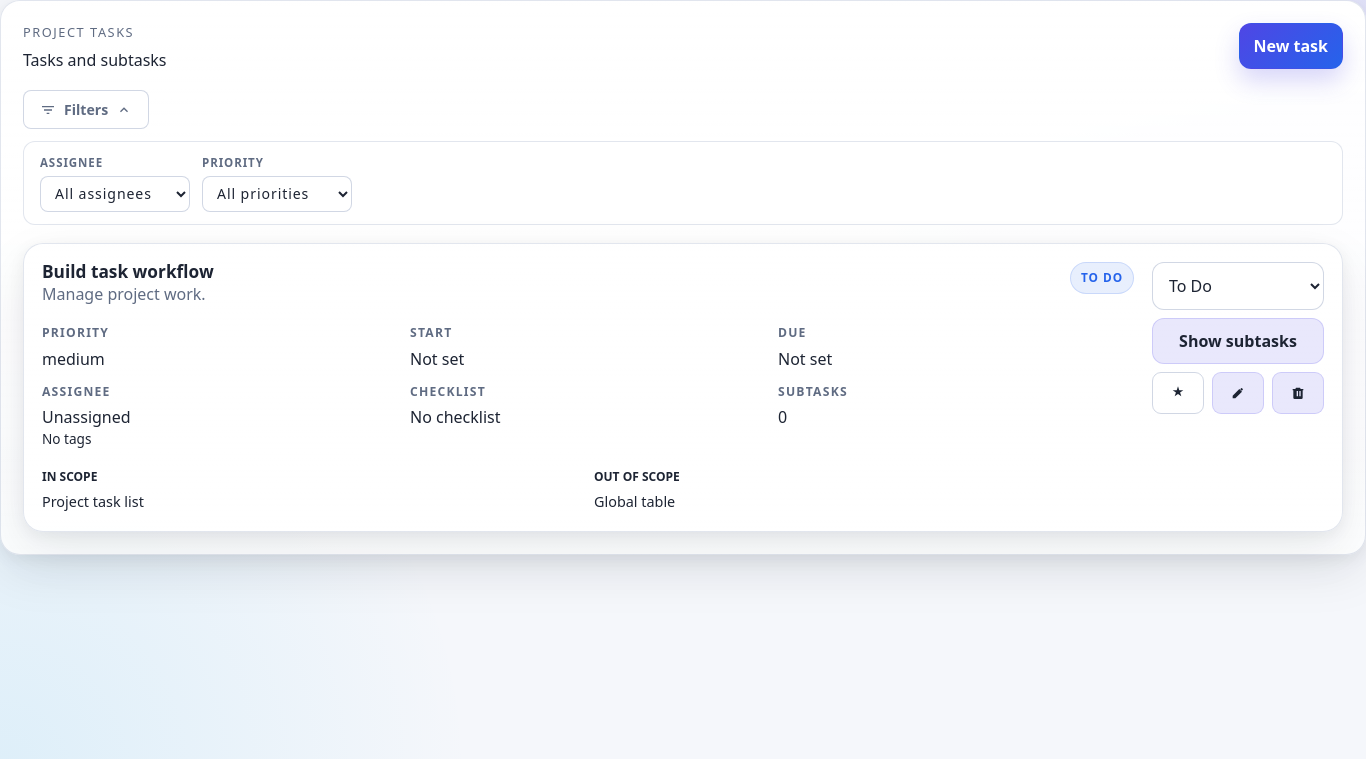
Test case: ProjectTasksPanel subtask layout › keeps subtask delete confirmation behavior inside the parent task workflow
This screenshot has width=1366, height=759.
What coordinates should you click on to do the following:
click the button "Show subtasks"
I would click on:
 (1238, 341)
Its box is [1152,318,1324,364].
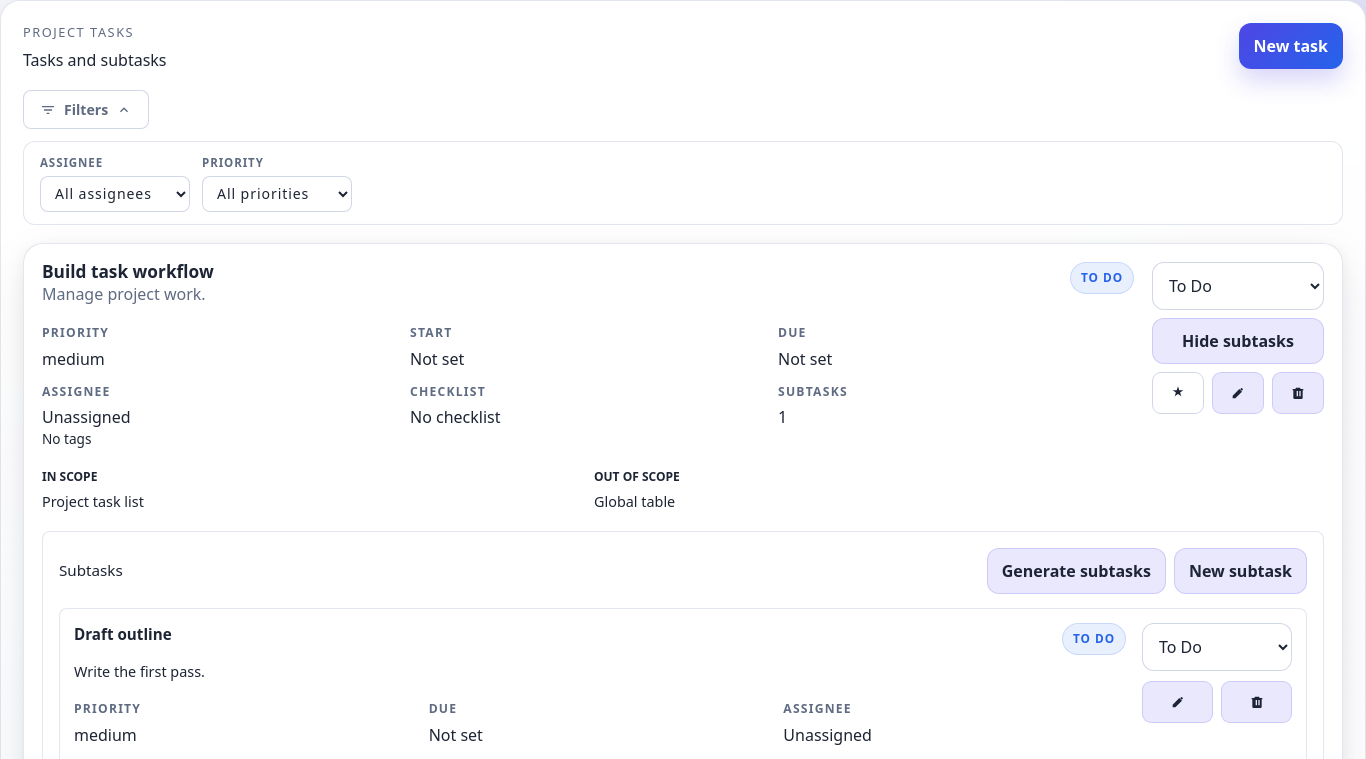
What coordinates should you click on to do the following:
click the 2nd button named "Delete"
I would click on:
 (1256, 702)
Its box is [1221,681,1292,723].
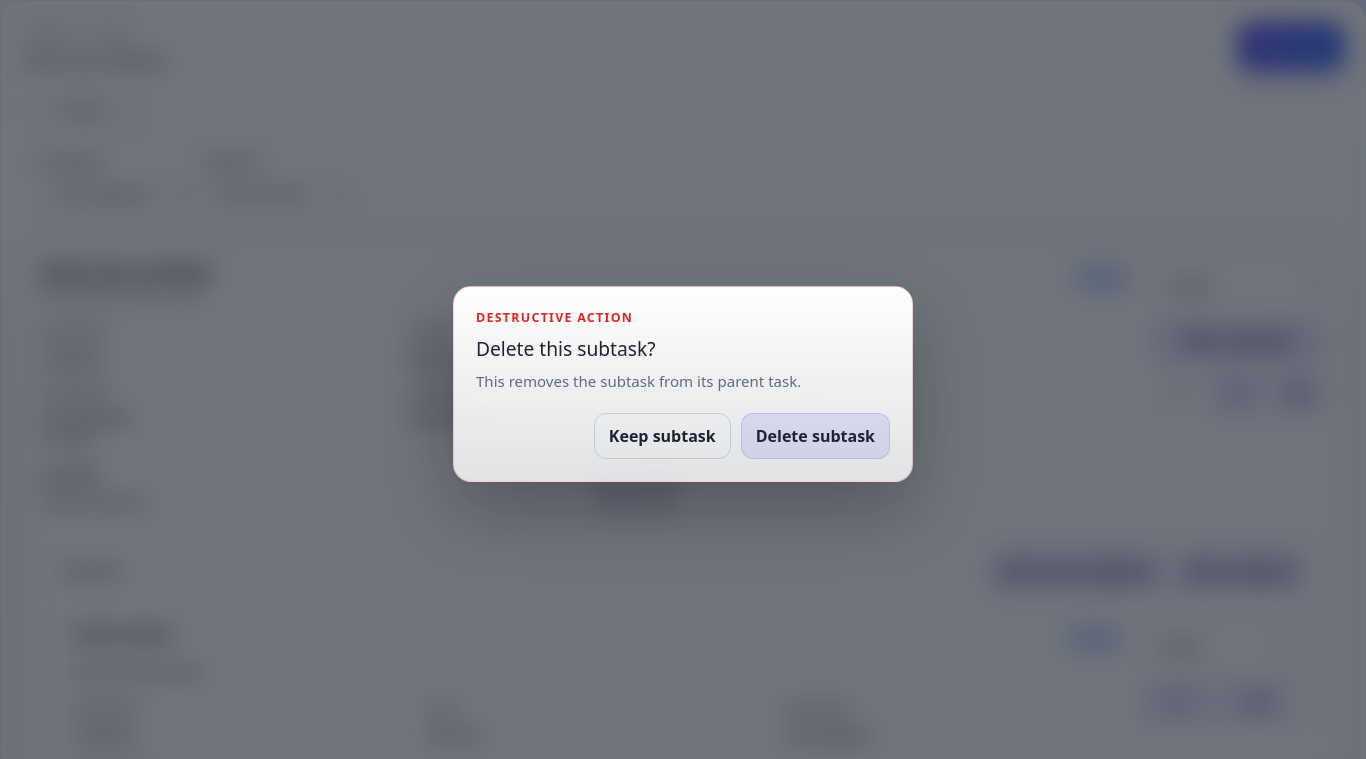
Now the dialog "Delete this subtask?" is shown, box [453,286,913,482]
What coordinates should you click on to do the following:
click the button "Keep subtask"
I would click on:
 (662, 436)
Its box is [594,413,731,459].
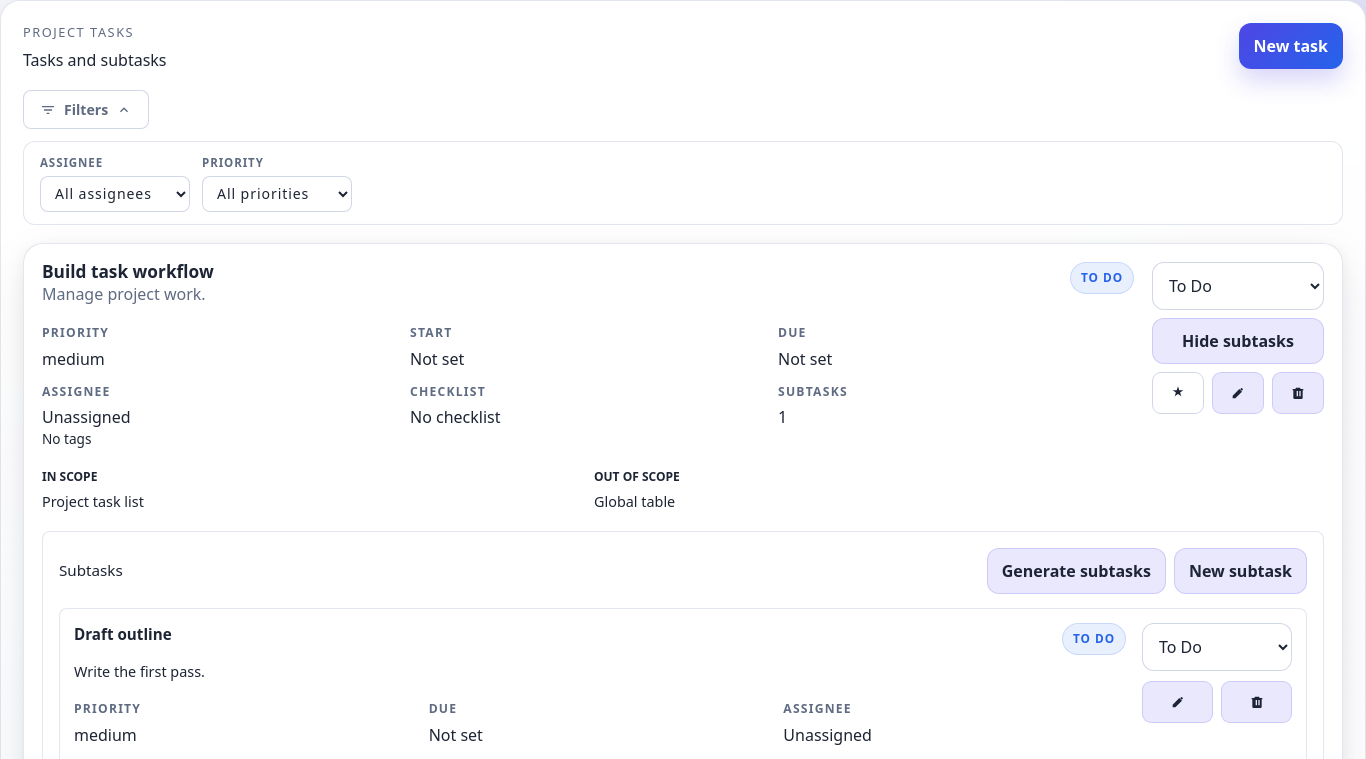
Now the heading "Draft outline" is shown, box [74,623,172,646]
Now the heading "Delete this subtask?" is gone
What coordinates should you click on to do the following:
click the 2nd button named "Delete"
I would click on:
 (1256, 702)
Its box is [1221,681,1292,723].
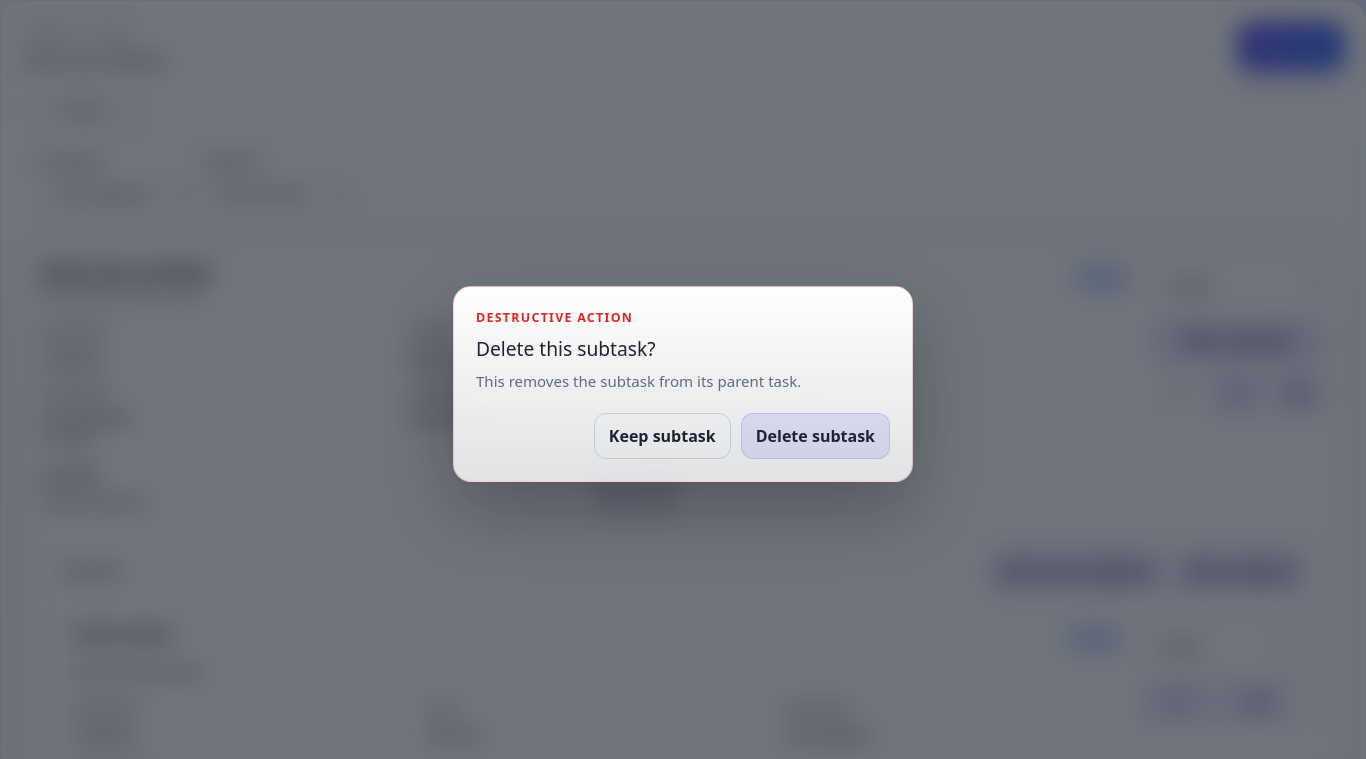
What coordinates should you click on to do the following:
click the button "Delete subtask"
I would click on:
 (815, 436)
Its box is [741,413,890,459].
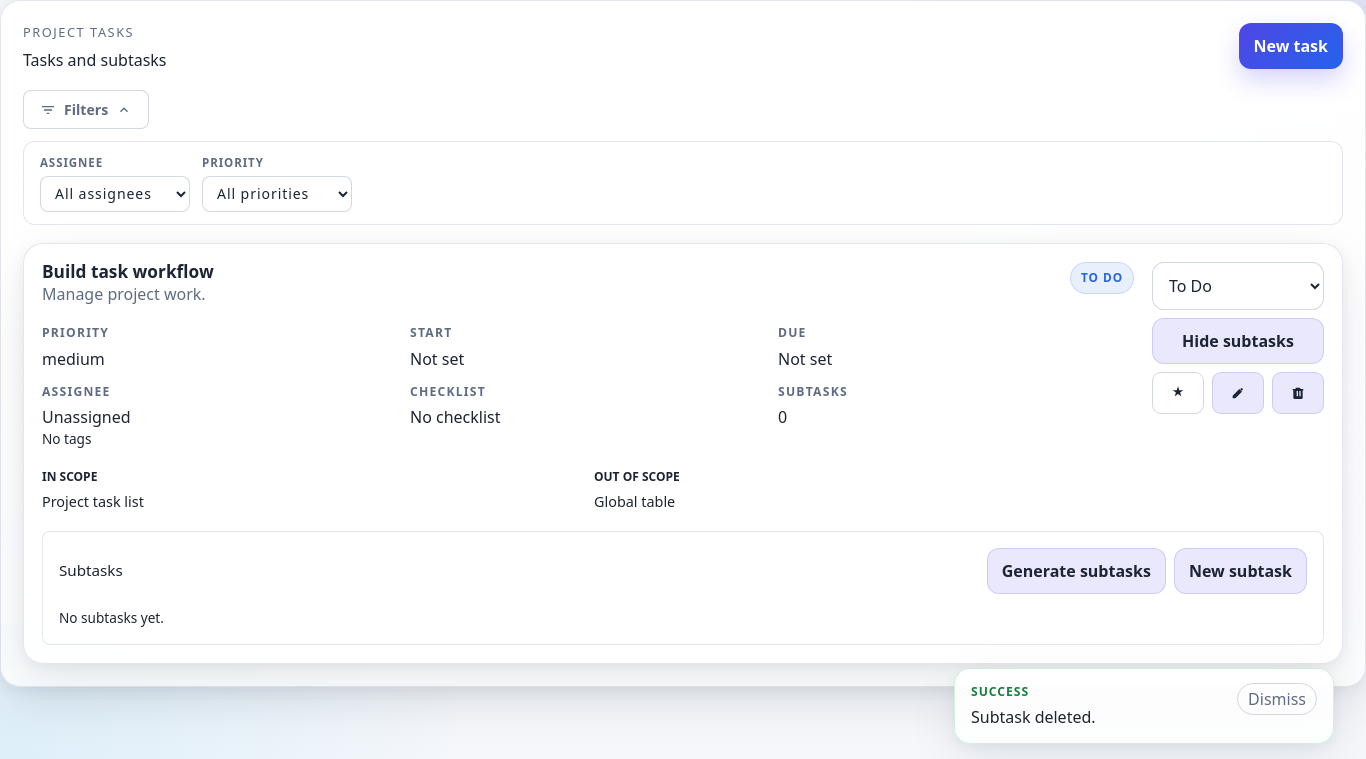
Now the heading "Draft outline" is gone
Now the message shows "Subtask deleted.", box [971,706,1096,728]
